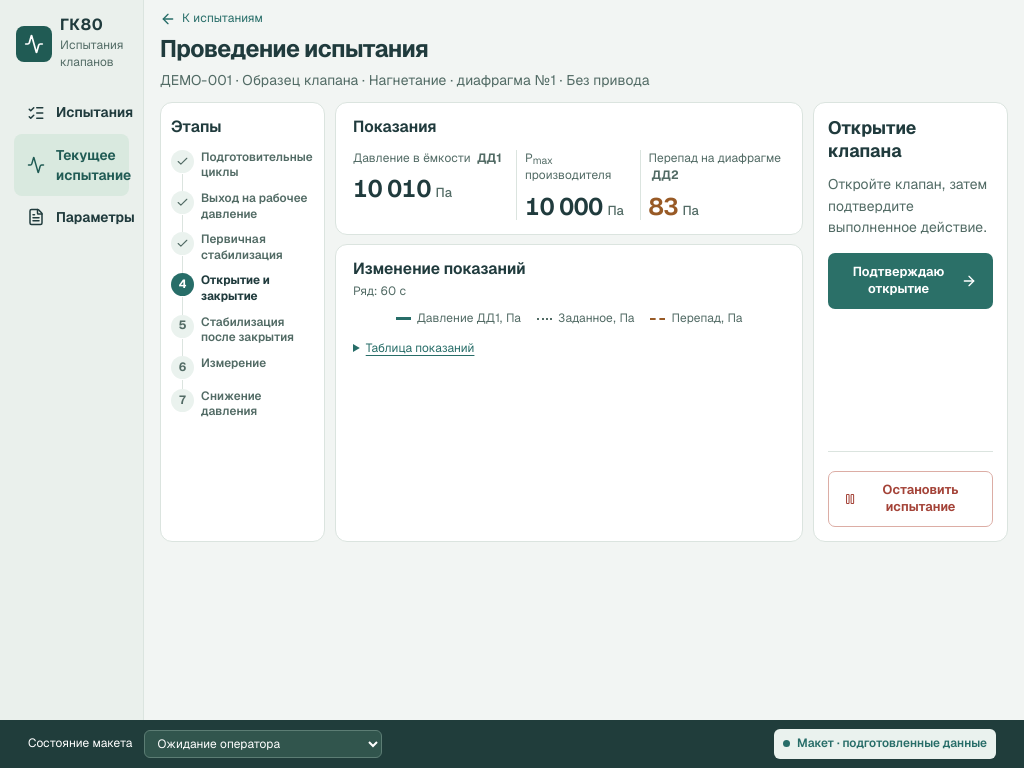
Test case: подготовленные состояния оператора › отличает запрос и выполнение остановки от её подтверждения
What coordinates should you click on to do the following:
click the button "Остановить испытание"
I would click on:
 (910, 499)
Its box is [828, 471, 993, 527].
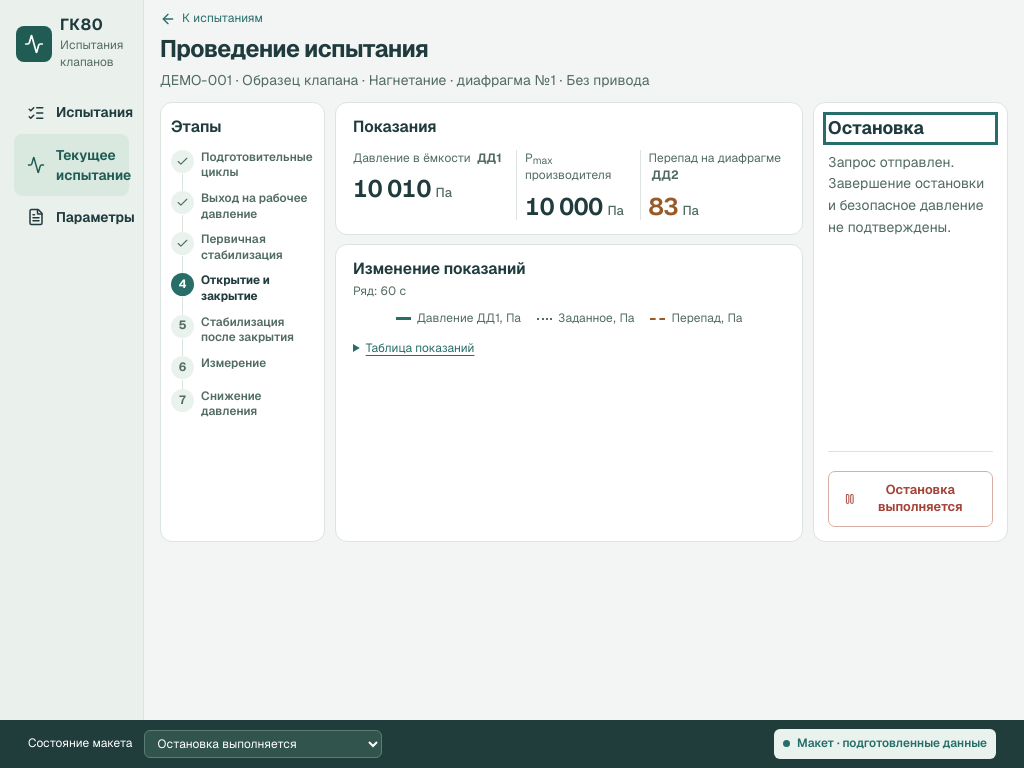
Check: the text "Завершение остановки и безопасное давление не подтверждены" is shown, box [828, 152, 984, 236]
Check: the button "Остановка выполняется" is disabled, box [828, 471, 993, 527]
